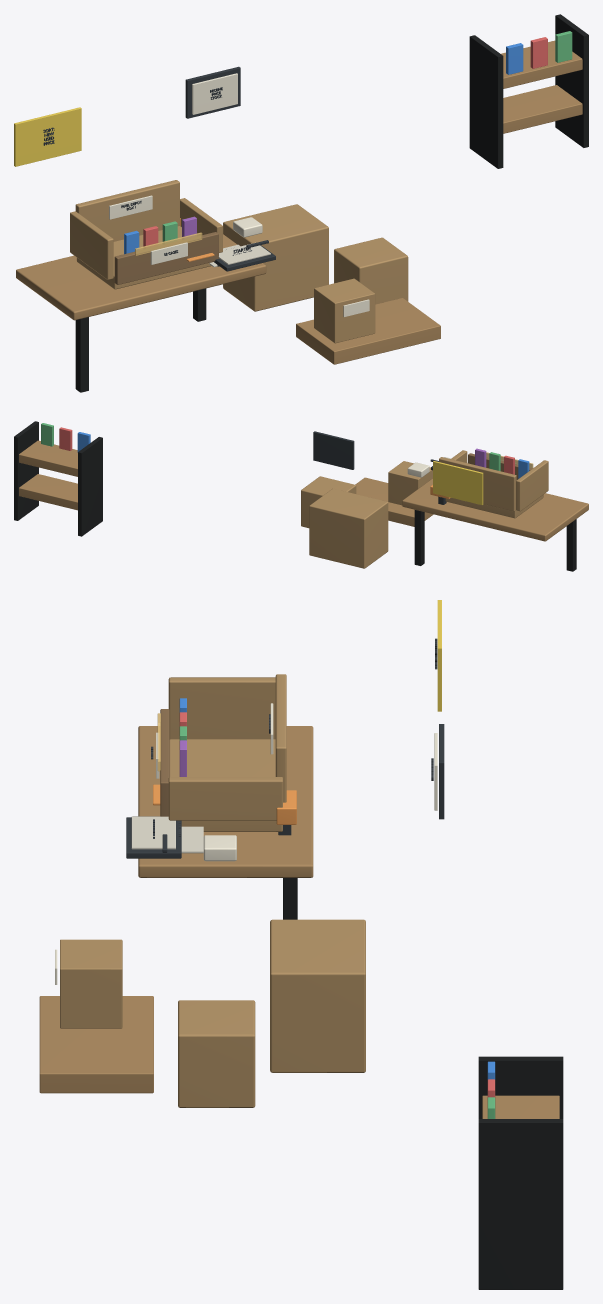
File: receiving_backroom_pack.glb
3 views of the same model, one above another, from view 1: azimuth 30°, elevation 25°; view 2: azimuth 150°, elevation 25°; view 3: azimuth 270°, elevation 25° (orthographic). The views are drawn at different scales.
Parts seen in each view (by area): view 1: sealed_backroom_shipper_a, receiving_table_laminate_top, receiving_floor_pallet, backroom_backstock_post_left, sealed_backroom_shipper_b, open_shipment_box_back_flap, receiving_pallet_box_small, backroom_wall_sort_sign, backroom_backstock_shelf_a, backroom_backstock_post_right, open_shipment_box_front_lip, open_shipment_box_left_flap (+13 smaller); view 2: sealed_backroom_shipper_a, receiving_table_laminate_top, backroom_backstock_post_left, backroom_wall_sort_sign, open_shipment_box_back_flap, backroom_backstock_post_right, backroom_backstock_shelf_a, backroom_backstock_shelf_b, backroom_wall_clipboard_hook, receiving_floor_pallet, open_shipment_box_left_flap, receiving_pallet_box_small (+8 smaller); view 3: sealed_backroom_shipper_a, backroom_backstock_post_right, receiving_table_laminate_top, receiving_floor_pallet, sealed_backroom_shipper_b, open_shipment_box_left_flap, receiving_pallet_box_small, open_shipment_box_right_flap, open_shipment_box_bottom, backroom_backstock_post_left, backroom_backstock_shelf_b, manifest_top_sheet (+4 smaller).
Boxes of the visible parts, x1,y1,x2,y2 form: sealed_backroom_shipper_a: [223, 204, 328, 311]; receiving_table_laminate_top: [16, 234, 266, 320]; receiving_floor_pallet: [296, 298, 440, 364]; backroom_backstock_post_left: [469, 35, 503, 168]; sealed_backroom_shipper_b: [334, 237, 408, 304]; open_shipment_box_back_flap: [75, 180, 179, 241]; receiving_pallet_box_small: [314, 278, 375, 343]; backroom_wall_sort_sign: [14, 107, 81, 166]; backroom_backstock_shelf_a: [503, 85, 582, 133]; backroom_backstock_post_right: [555, 14, 588, 147]; open_shipment_box_front_lip: [114, 232, 218, 284]; open_shipment_box_left_flap: [70, 211, 113, 279]; sealed_backroom_shipper_a: [309, 488, 388, 568]; receiving_table_laminate_top: [402, 478, 588, 541]; backroom_backstock_post_left: [78, 437, 102, 536]; backroom_wall_sort_sign: [433, 461, 483, 505]; open_shipment_box_back_flap: [439, 457, 516, 511]; backroom_backstock_post_right: [14, 421, 38, 520]; backroom_backstock_shelf_a: [19, 474, 77, 510]; backroom_backstock_shelf_b: [19, 440, 77, 476]; backroom_wall_clipboard_hook: [313, 431, 354, 469]; receiving_floor_pallet: [355, 477, 433, 526]; open_shipment_box_left_flap: [516, 460, 548, 511]; receiving_pallet_box_small: [388, 461, 432, 505]; sealed_backroom_shipper_a: [270, 919, 365, 1072]; backroom_backstock_post_right: [478, 1119, 563, 1289]; receiving_table_laminate_top: [138, 726, 313, 877]; receiving_floor_pallet: [39, 996, 153, 1093]; sealed_backroom_shipper_b: [178, 1000, 255, 1107]; open_shipment_box_left_flap: [168, 677, 275, 739]; receiving_pallet_box_small: [60, 939, 122, 1028]; open_shipment_box_right_flap: [168, 777, 282, 820]; open_shipment_box_bottom: [169, 739, 282, 831]; backroom_backstock_post_left: [478, 1056, 563, 1118]; backroom_backstock_shelf_b: [482, 1095, 559, 1118]; manifest_top_sheet: [131, 816, 175, 849].
Bounding box in the file's own units: 5.88 × 1.72 × 2.84.
